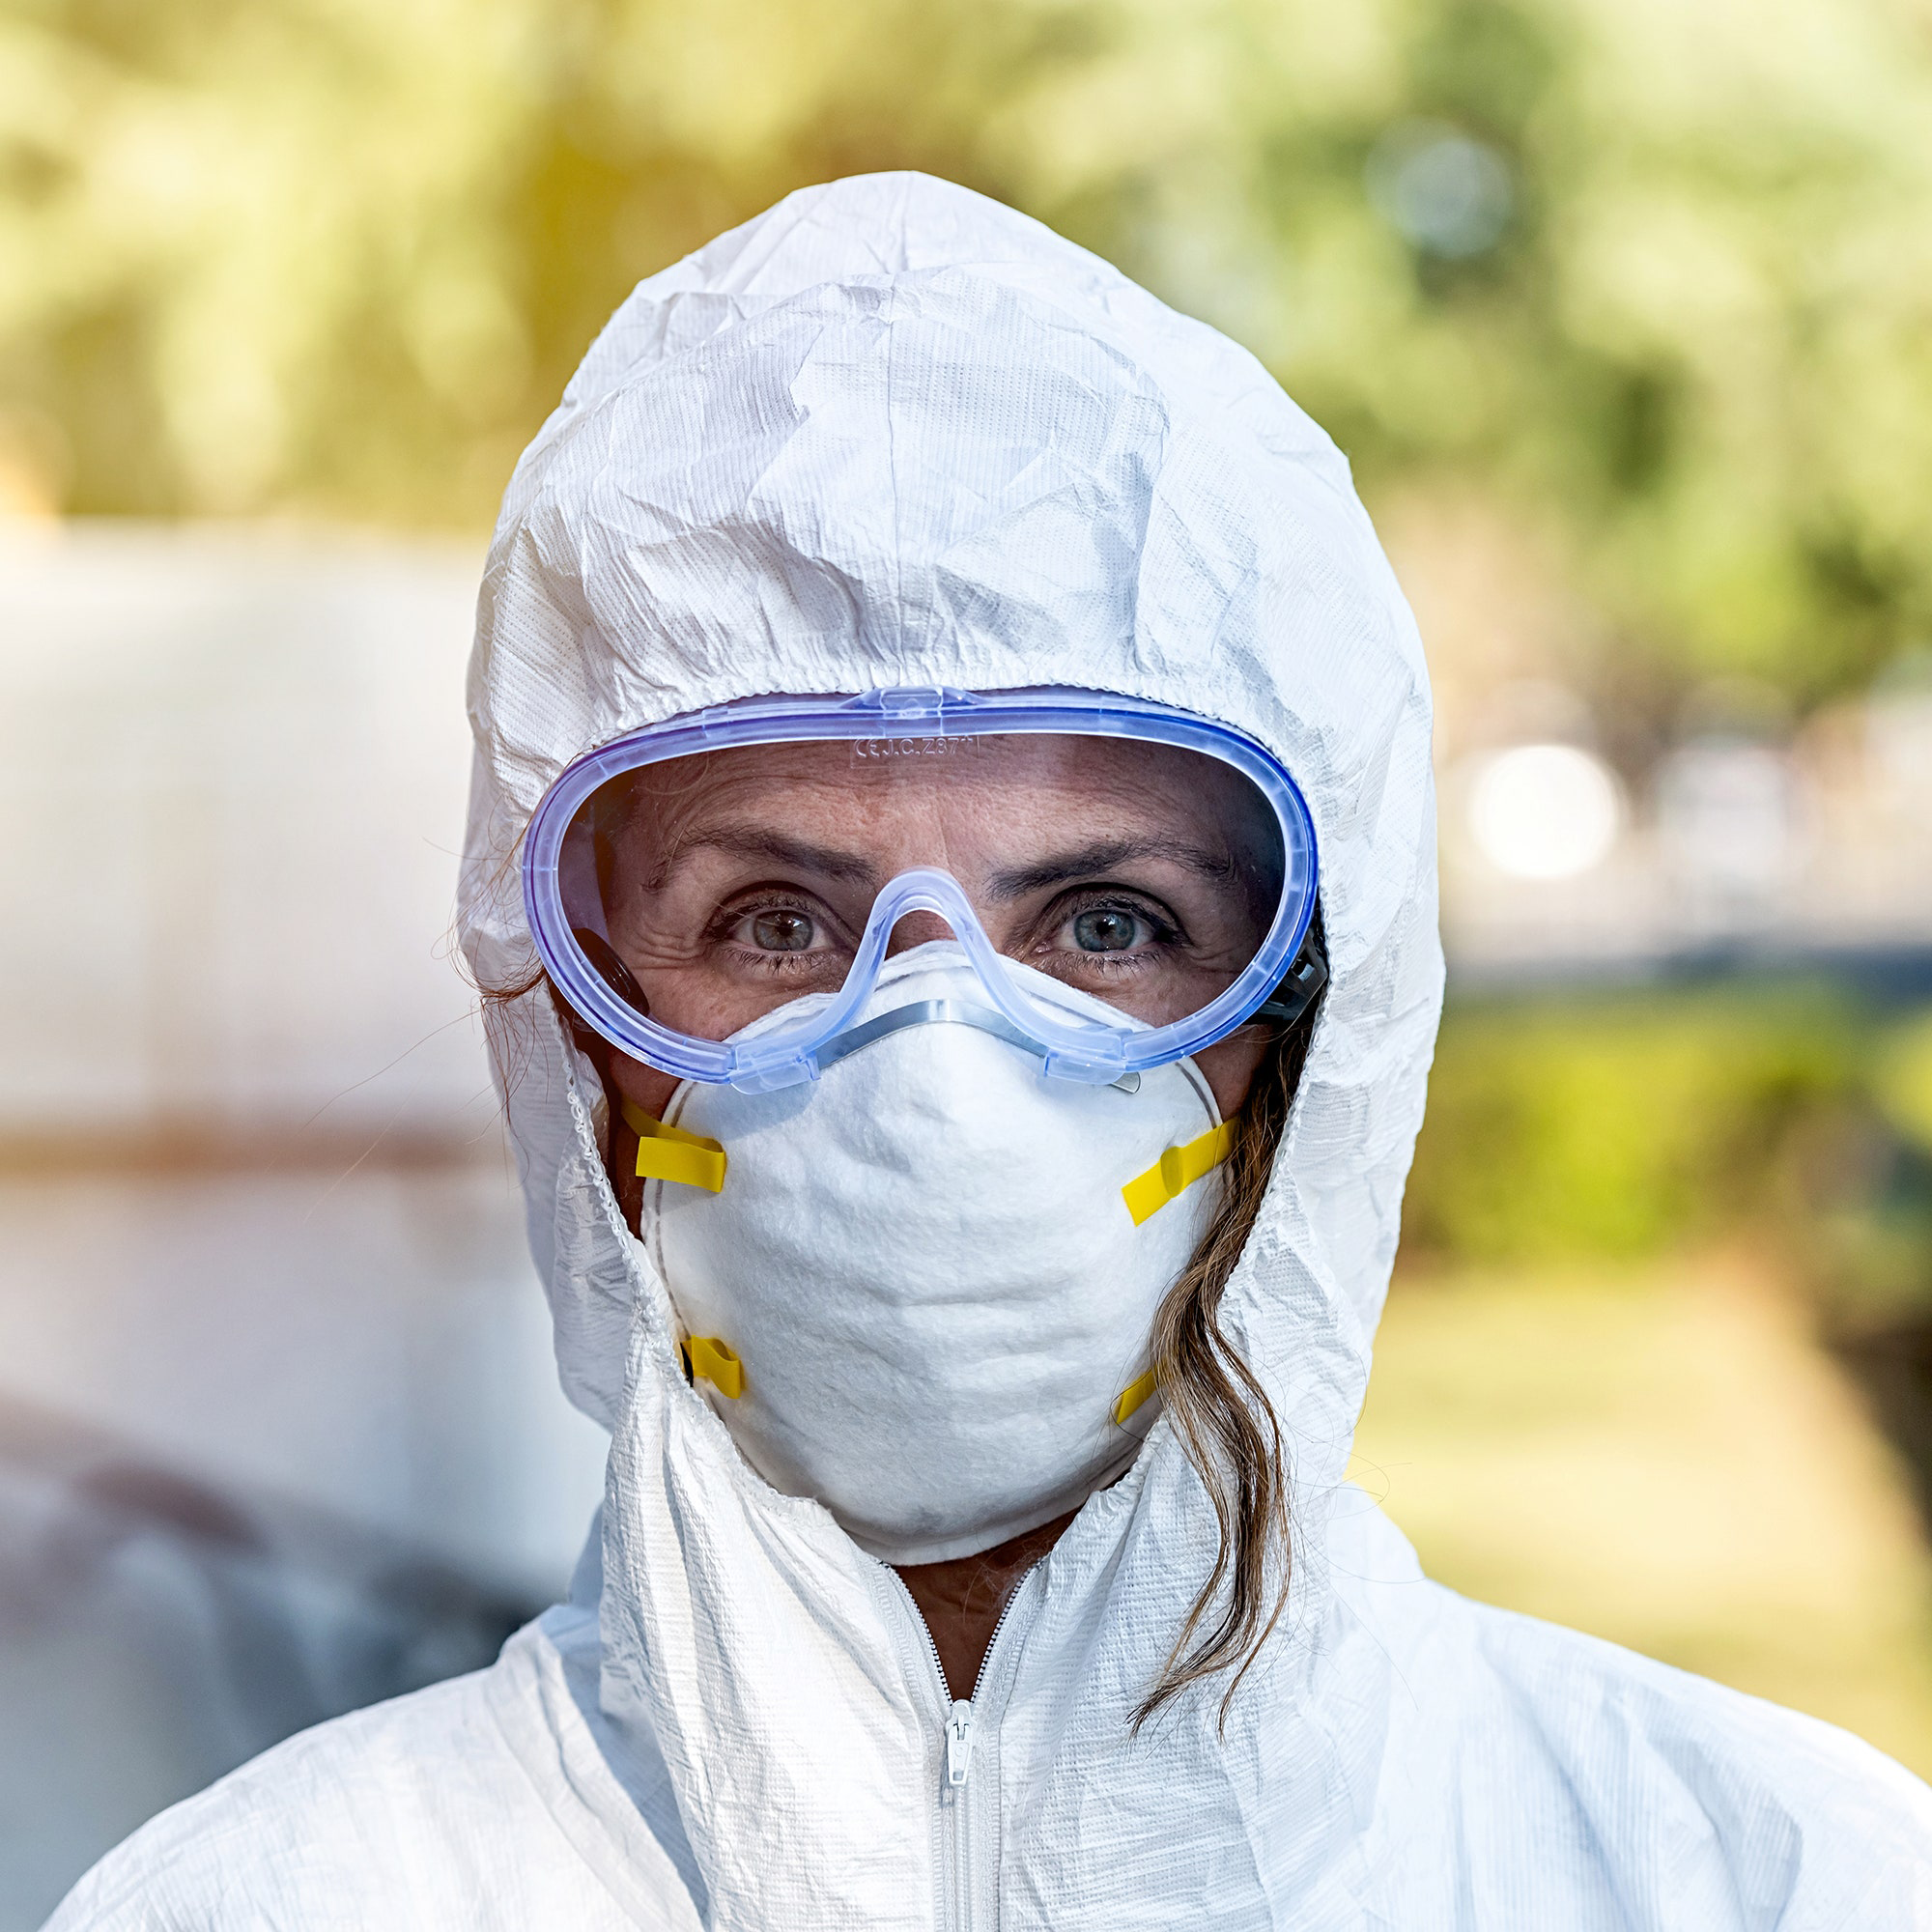Coverall: (55, 171, 1927, 1932)
Goggles: (525, 690, 1326, 1099)
with_mask: (609, 911, 1278, 1548)
